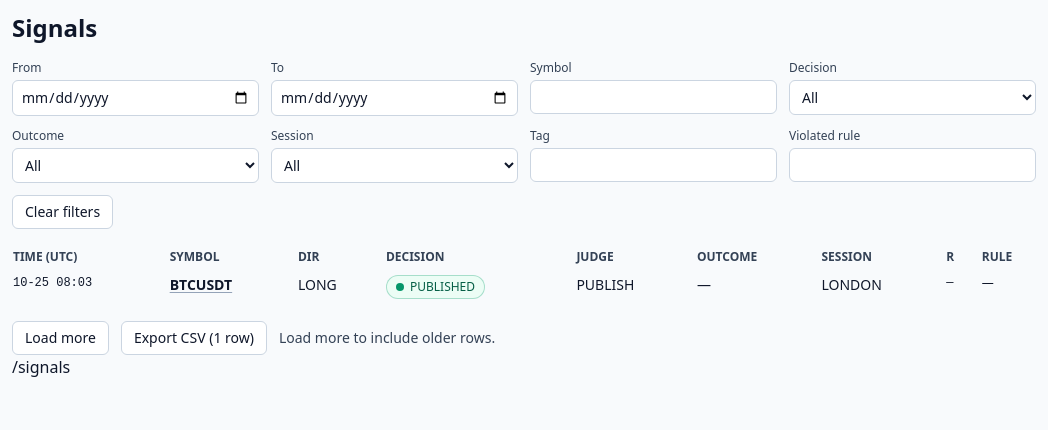
Test case: SignalsPage › keeps page one and shows an inline error when the next page fails
Expected: the link "BTCUSDT" is shown, [170,275,232,294]
What coordinates should you click on to do the following:
click the button "Load more"
I would click on:
 (60, 338)
Its box is [12,321,109,355].
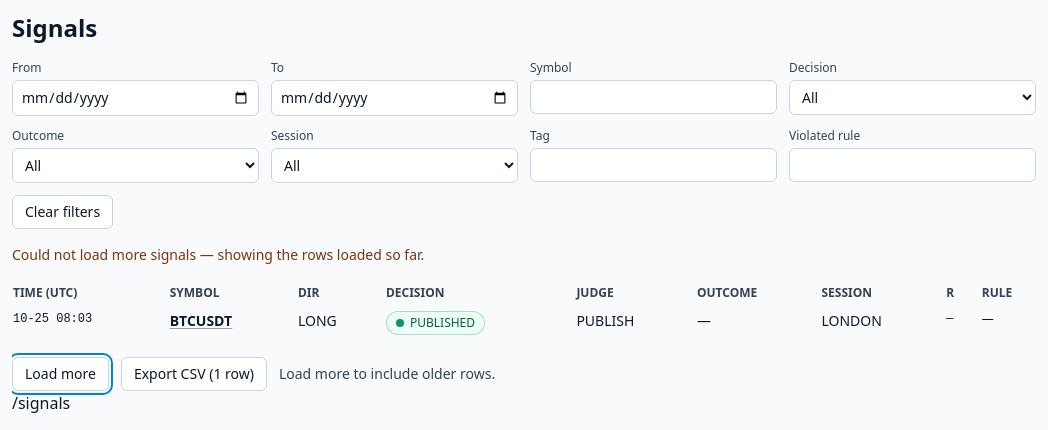
Expected: the link "BTCUSDT" is shown, [170,311,232,330]
Expected: the text "Could not load more signals — showing the rows loaded so far." is shown, [12,245,424,264]
